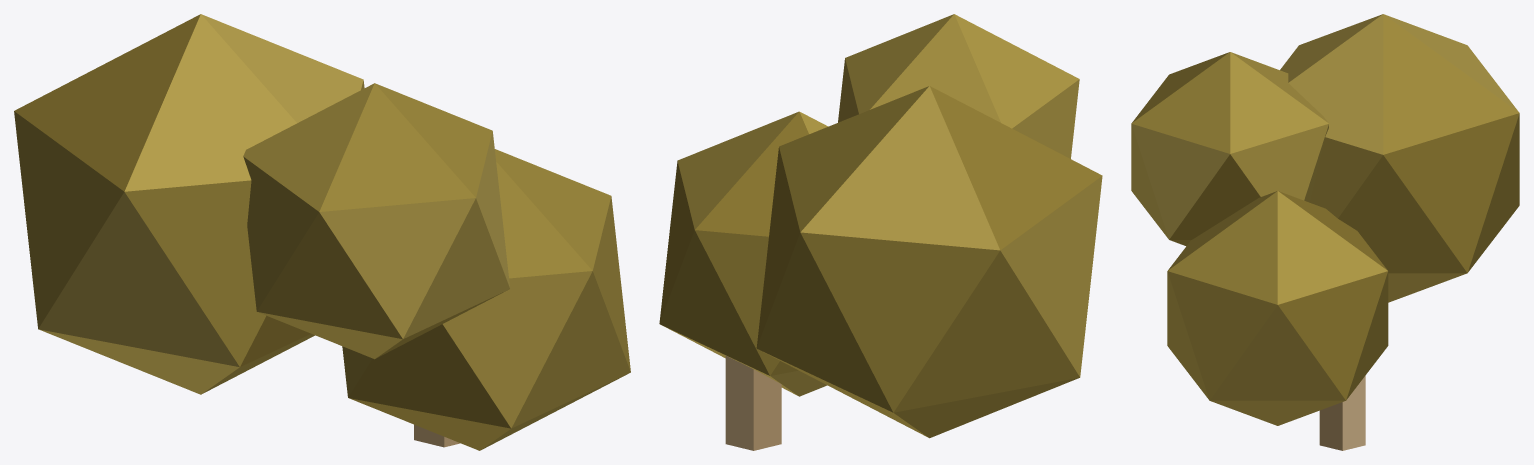
Rendered from WildPlant_d.fbx.
3 views of the same model, side by side, from view 1: azimuth 30°, elevation 25°; view 2: azimuth 150°, elevation 25°; view 3: azimuth 270°, elevation 25° (orthographic). The views are drawn at different scales.
Parts seen in each view (by area): view 1: WildPlant_d; view 2: WildPlant_d; view 3: WildPlant_d.
Boxes of the visible parts, <box> form: WildPlant_d: <box>14,14,630,450</box>; WildPlant_d: <box>659,14,1102,450</box>; WildPlant_d: <box>1131,14,1519,450</box>.
Size of what is drawn, in the model's own units: 0.5007 by 0.429 by 0.4376.
